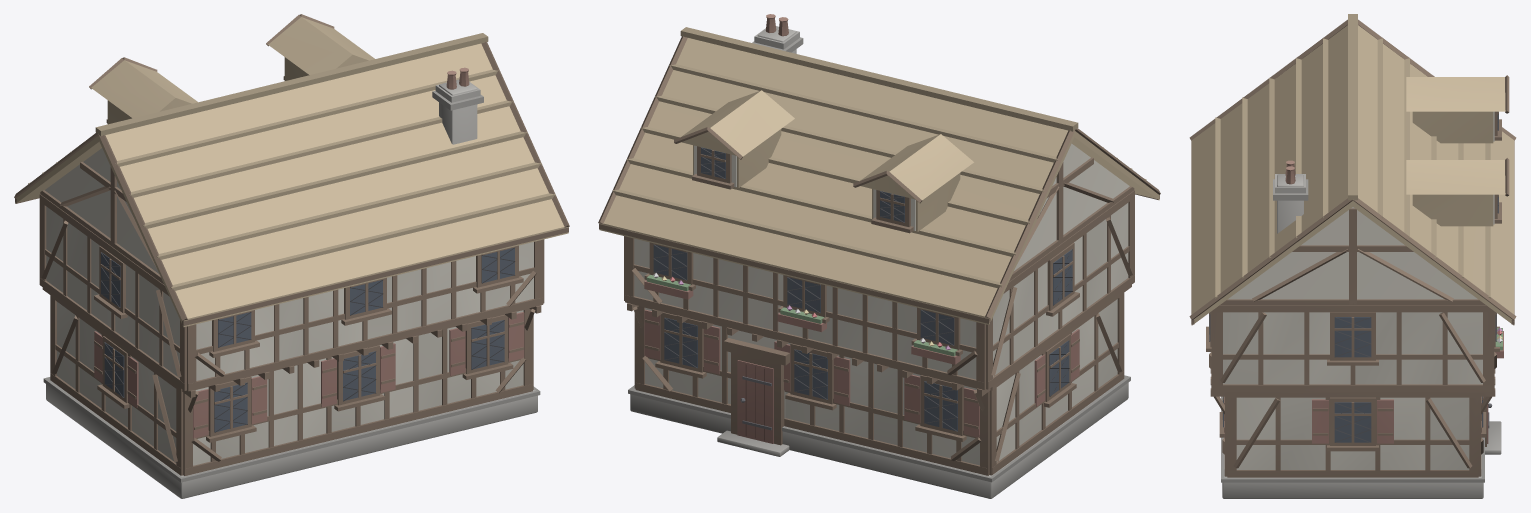
File: hall_amber.gltf
The picture shows the model from 3 angles, left to right: view 1: azimuth 30°, elevation 25°; view 2: azimuth 150°, elevation 25°; view 3: azimuth 270°, elevation 25°; orthographic projection. The views are drawn at different scales.
Visible parts, largest first — view 1: Body; view 2: Body; view 3: Body.
Part boxes in pixels (x1,y1,x2,y2): Body: [14, 14, 569, 498]; Body: [598, 14, 1160, 498]; Body: [1189, 14, 1516, 498].
Size of the model in its own units: 11.17 by 8.99 by 8.51.
